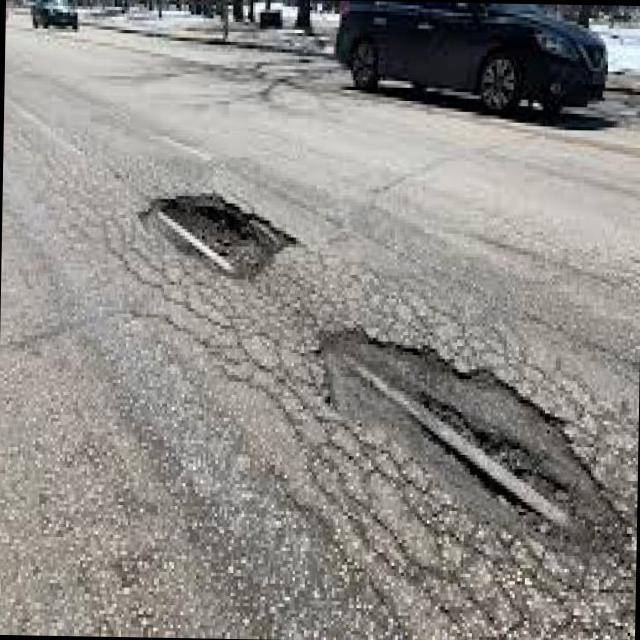Pothole: (316, 327, 612, 546), (140, 196, 300, 279)
